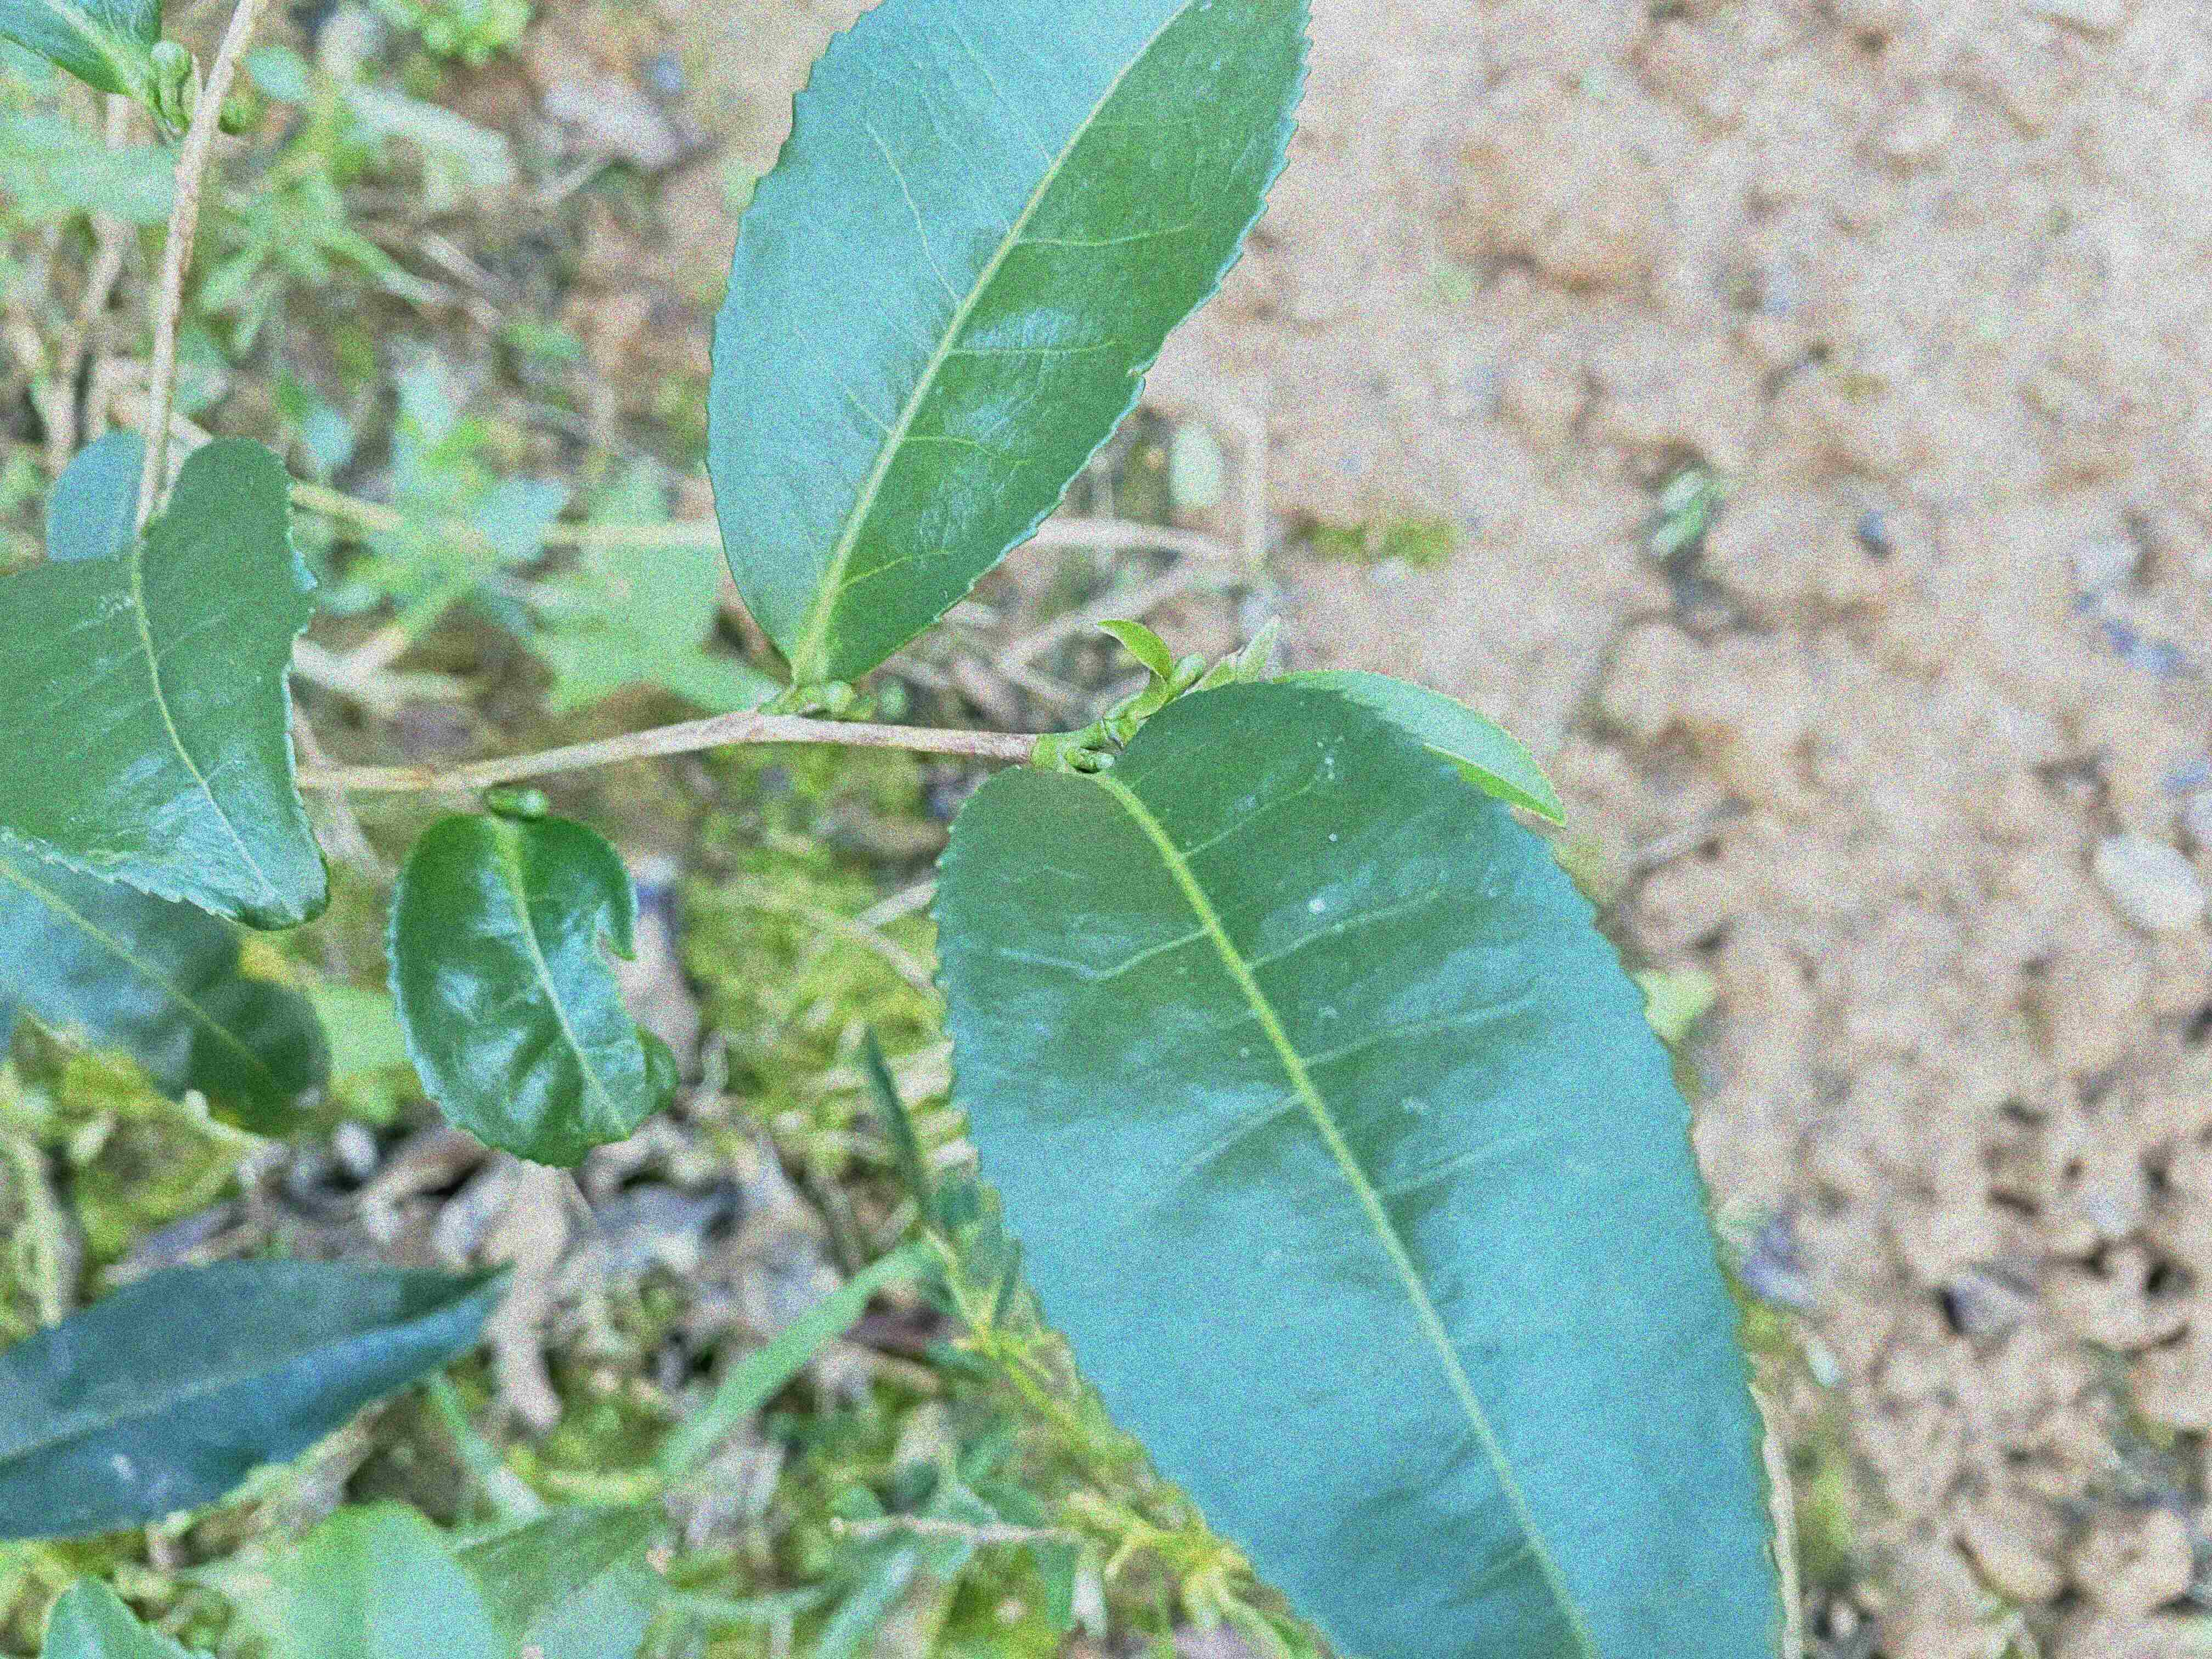chihuo_low: (383, 802, 681, 1171)
healthy: (700, 2, 1318, 687), (0, 437, 334, 931)
